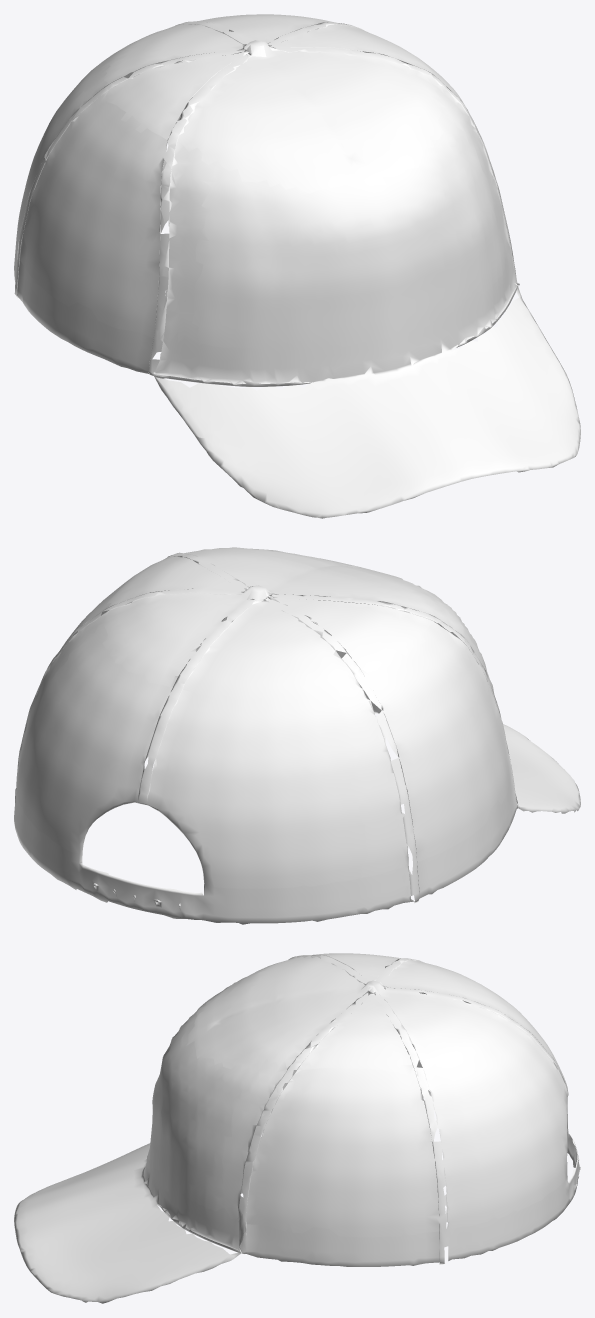
File: gorra_cerrada.glb
3 renders of one model, top to bottom at view 1: azimuth 30°, elevation 25°; view 2: azimuth 150°, elevation 25°; view 3: azimuth 270°, elevation 25°, orthographic. The views are drawn at different scales.
Visible parts, largest first — view 1: gorra_cerrada; view 2: gorra_cerrada; view 3: gorra_cerrada.
Boxes of the visible parts, x1,y1,x2,y2 form: gorra_cerrada: (14,14,580,518); gorra_cerrada: (14,547,580,924); gorra_cerrada: (14,953,580,1303).
Bounding box in the file's own units: 0.196 × 0.1341 × 0.268.
1 material, 1 textured.
